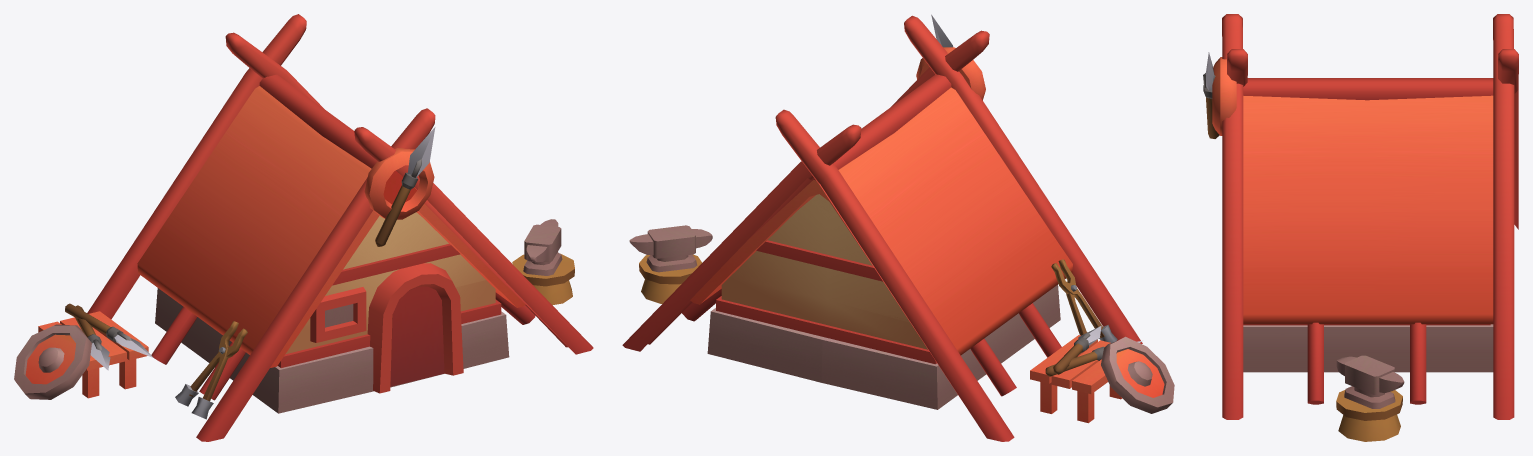
The model's file is BarrackHouse11.fbx.
3 renders of one model, left to right at view 1: azimuth 30°, elevation 25°; view 2: azimuth 150°, elevation 25°; view 3: azimuth 270°, elevation 25°, orthographic. The views are drawn at different scales.
Visible parts, largest first — view 1: Cube.243, Cube.242, Cube.255, Cube.251, Cube.246, Cube.247, Cylinder.085, Circle.051, Cube.241, Plane.065, Cube.253, Cube.244 (+7 smaller); view 2: Cube.243, Cube.242, Cube.246, Cube.251, Cube.245, Cylinder.085, Cube.253, Cube.241, Cube.252, Cube.244, Plane.066, Circle.053 (+3 smaller); view 3: Cube.243, Cube.242, Cube.245, Cube.247, Cube.241, Cube.244, Cube.252, Circle.053, Cube.246, Circle.051, Cube.251, Cylinder.081.
Boxes of the visible parts, x1=… form: Cube.243: x1=137, y1=86, x2=525, y2=367; Cube.242: x1=155, y1=212, x2=509, y2=413; Cube.255: x1=367, y1=263, x2=463, y2=393; Cube.251: x1=196, y1=108, x2=435, y2=441; Cube.246: x1=87, y1=14, x2=306, y2=319; Cube.247: x1=354, y1=127, x2=593, y2=354; Cylinder.085: x1=14, y1=324, x2=91, y2=399; Circle.051: x1=364, y1=148, x2=434, y2=219; Cube.241: x1=259, y1=74, x2=376, y2=168; Plane.065: x1=310, y1=287, x2=366, y2=342; Cube.253: x1=38, y1=311, x2=148, y2=398; Cube.244: x1=151, y1=292, x2=535, y2=400; Cube.243: x1=690, y1=87, x2=1072, y2=355; Cube.242: x1=707, y1=194, x2=1060, y2=409; Cube.246: x1=775, y1=109, x2=1014, y2=441; Cube.251: x1=904, y1=15, x2=1142, y2=343; Cube.245: x1=622, y1=124, x2=861, y2=351; Cylinder.085: x1=1101, y1=336, x2=1174, y2=413; Cube.253: x1=1030, y1=335, x2=1122, y2=423; Cube.241: x1=814, y1=74, x2=951, y2=180; Cube.252: x1=629, y1=225, x2=712, y2=272; Cube.244: x1=682, y1=289, x2=1061, y2=396; Plane.066: x1=1051, y1=259, x2=1117, y2=342; Circle.053: x1=639, y1=254, x2=701, y2=303; Cube.243: x1=1243, y1=95, x2=1493, y2=324; Cube.242: x1=1243, y1=324, x2=1493, y2=372; Cube.245: x1=1493, y1=14, x2=1514, y2=419; Cube.247: x1=1222, y1=14, x2=1243, y2=419; Cube.241: x1=1243, y1=78, x2=1493, y2=100; Cube.244: x1=1307, y1=322, x2=1426, y2=404; Cube.252: x1=1336, y1=355, x2=1404, y2=408; Circle.053: x1=1336, y1=389, x2=1402, y2=441; Cube.246: x1=1498, y1=49, x2=1518, y2=229; Circle.051: x1=1212, y1=57, x2=1236, y2=135; Cube.251: x1=1227, y1=49, x2=1247, y2=86; Cylinder.081: x1=1203, y1=52, x2=1219, y2=138.
Bounding box in the file's own units: 2.37 × 1.15 × 1.14.
